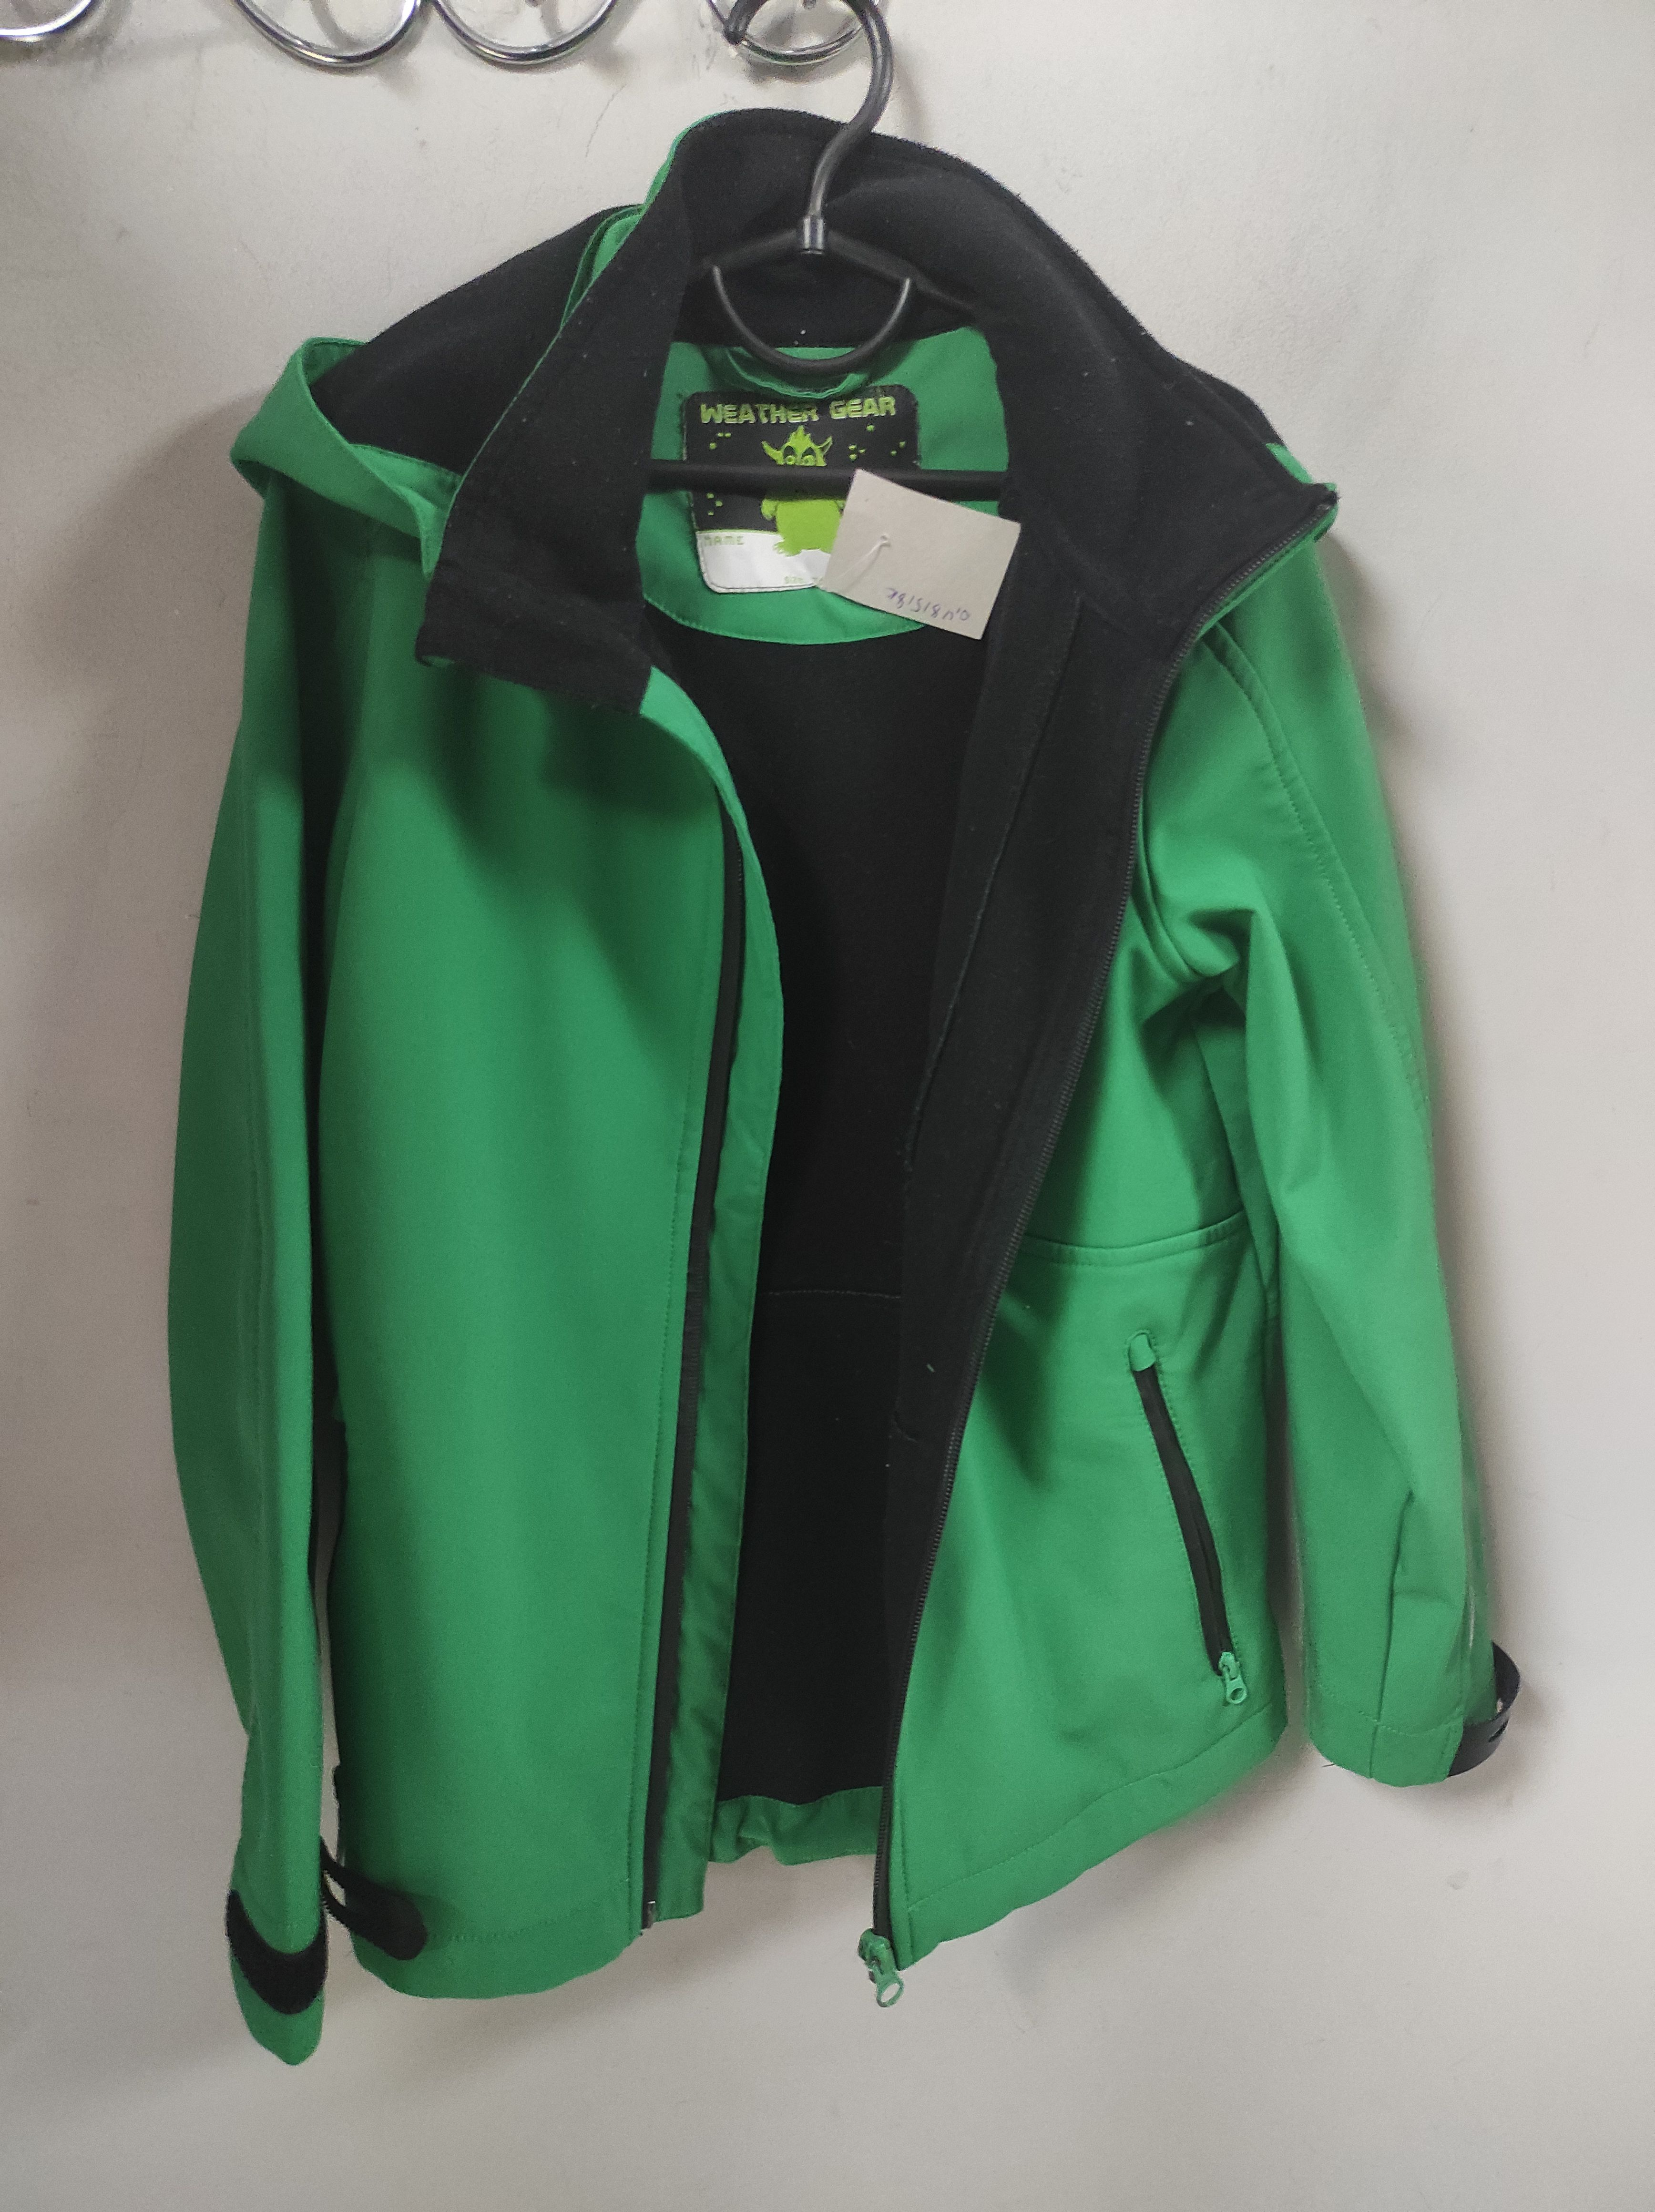clothes: (144, 115, 1558, 2066)
